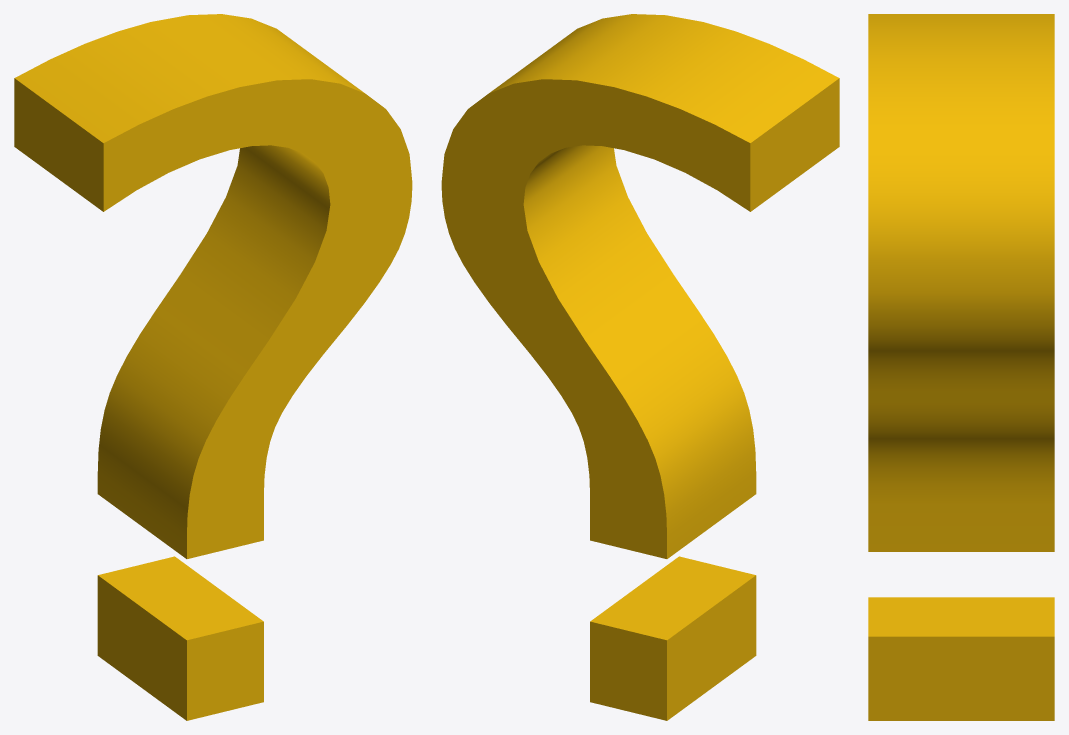
Rendered from question.glb.
3 views of the same model, side by side, from view 1: azimuth 30°, elevation 25°; view 2: azimuth 150°, elevation 25°; view 3: azimuth 270°, elevation 25° (orthographic). The views are drawn at different scales.
Visible parts, largest first — view 1: typeMesh1; view 2: typeMesh1; view 3: typeMesh1.
Boxes of the visible parts, x1,y1,x2,y2 form: typeMesh1: [14, 14, 412, 720]; typeMesh1: [441, 14, 839, 720]; typeMesh1: [868, 14, 1054, 720].
Size of the model in its own units: 0.0501 by 0.0962 by 0.025.
